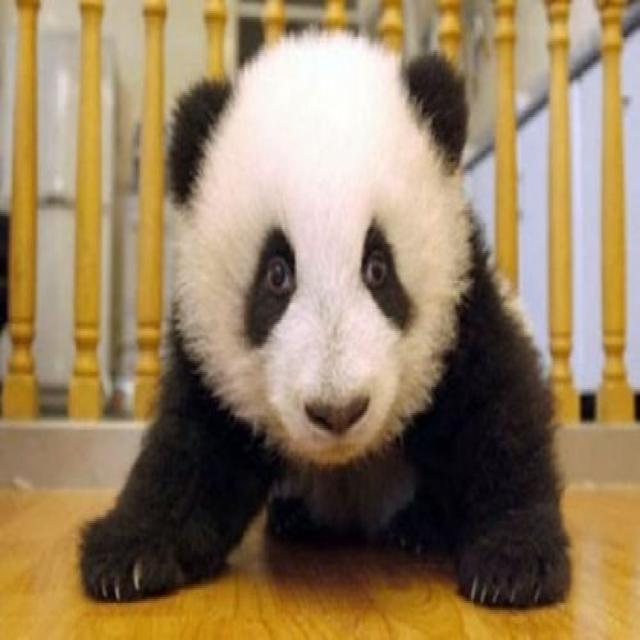panda: (102, 57, 600, 628)
